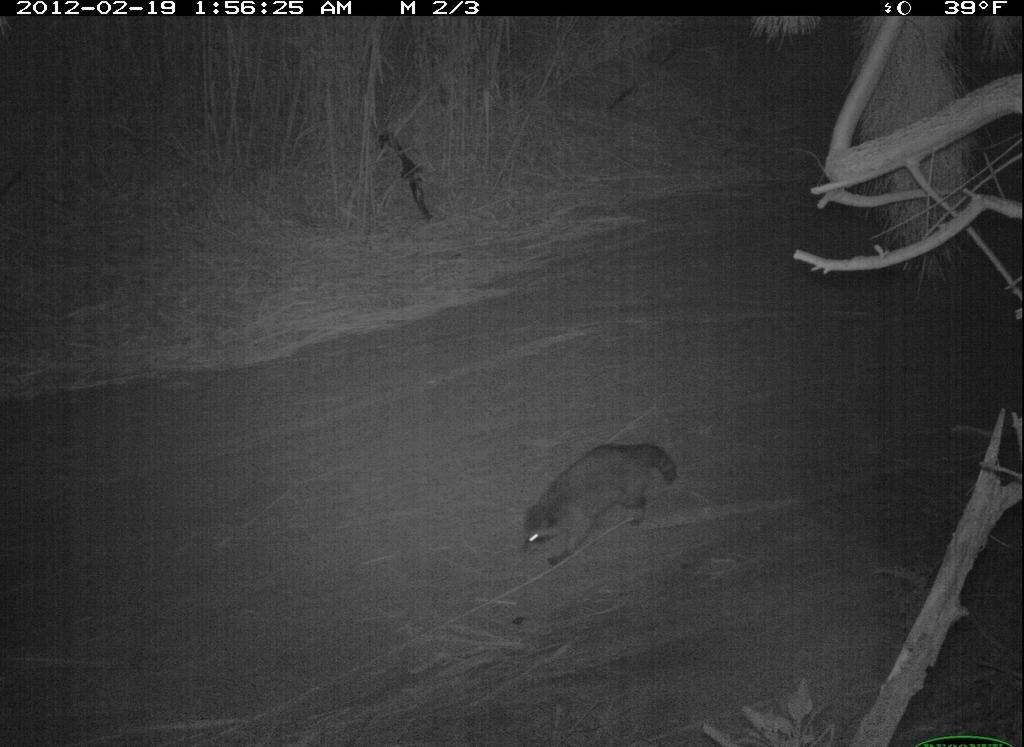raccoon: (515, 433, 689, 578)
